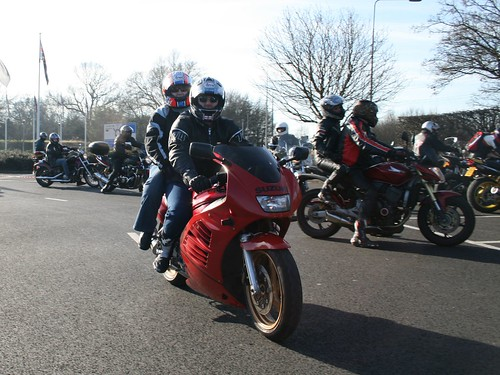helmet: (189, 79, 226, 117), (166, 67, 197, 108), (309, 90, 344, 120), (351, 93, 376, 119), (115, 119, 135, 138), (416, 116, 439, 132), (270, 120, 292, 135), (46, 129, 60, 146)
